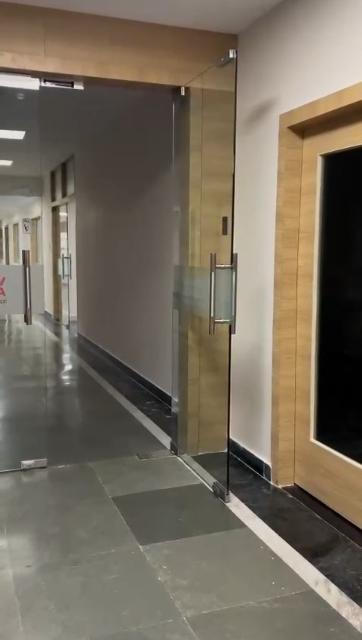door: (278, 116, 362, 508), (46, 166, 76, 337)
floor: (2, 316, 361, 640)
wall: (84, 123, 176, 373), (234, 110, 272, 450), (251, 28, 362, 102)
